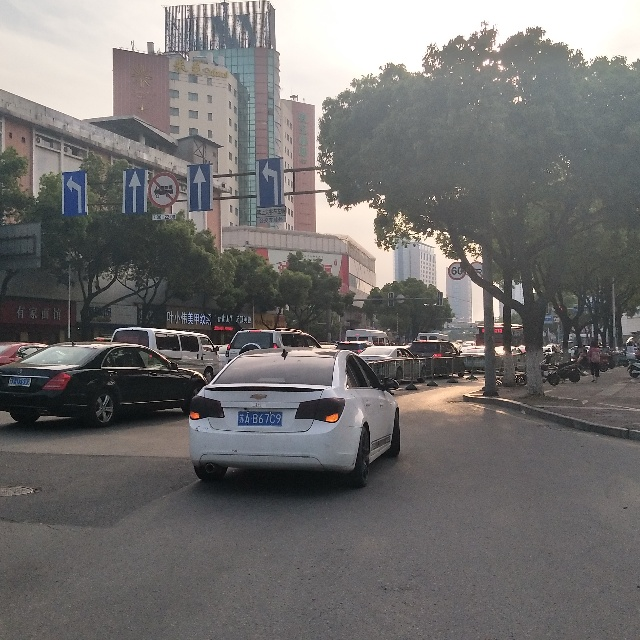left: (256, 159, 284, 207), (62, 172, 87, 215)
straight: (187, 164, 213, 211), (123, 169, 148, 213)
